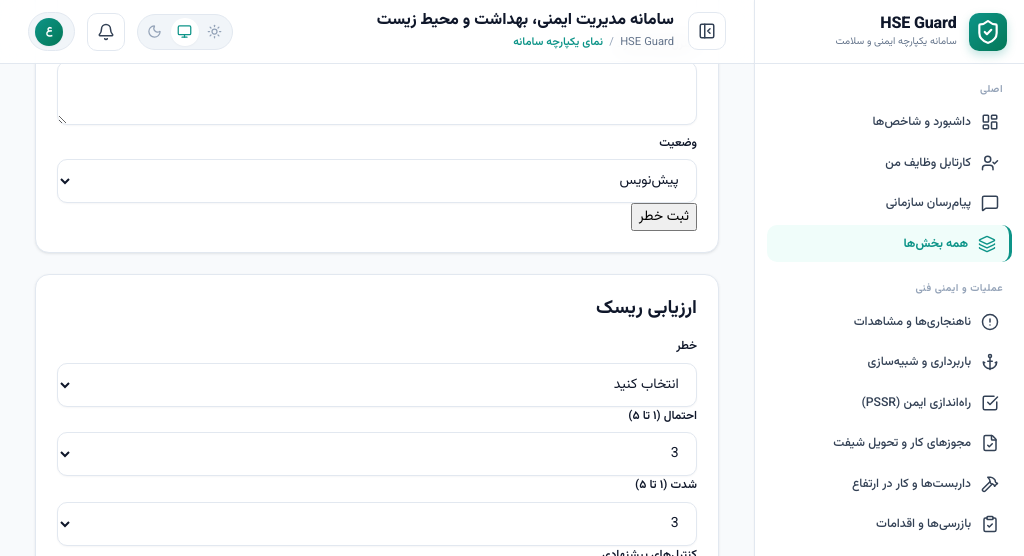
Test: Risks page › shows the server-computed score after submitting an assessment
The image size is (1024, 556).
(page scrolled)
Select "سقوط از ارتفاع" in the dropdown labelled "خطر": [377, 385] box [57,363,697,407]
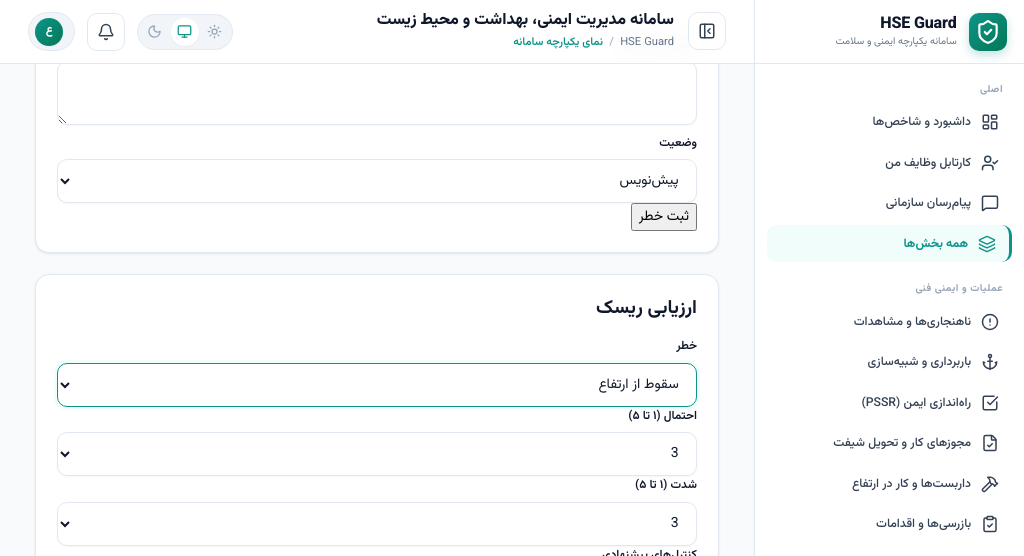
Select "4" in the dropdown labelled "احتمال (۱ تا ۵)": [377, 454] box [57,432,697,476]
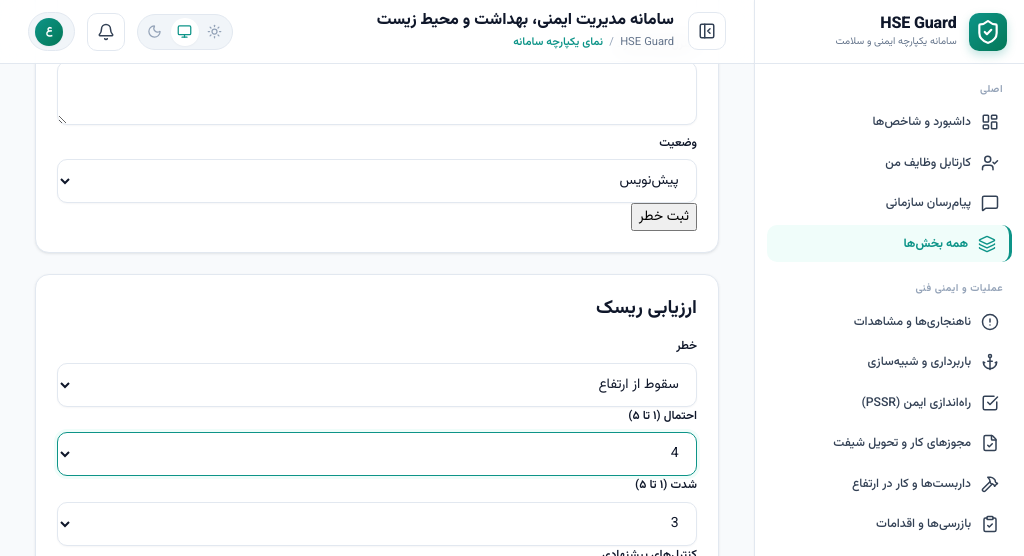
Select "5" in the dropdown labelled "شدت (۱ تا ۵)": [377, 524] box [57,502,697,546]
(page scrolled)
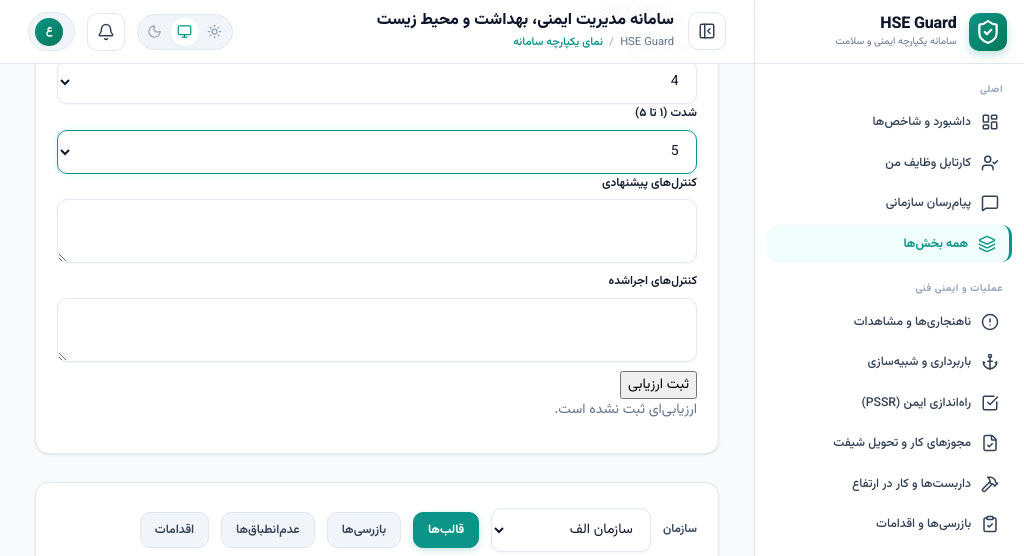
Click the button "ثبت ارزیابی": [658, 385] box [620,371,697,399]
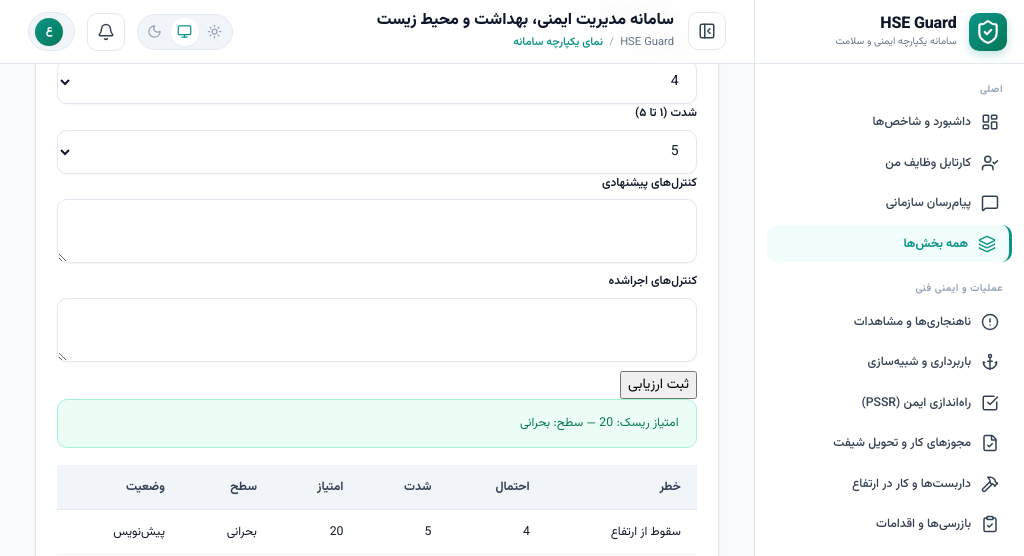
Check: the message shows "امتیاز ریسک: 20", box [57,399,697,448]
Check: the message shows "بحرانی", box [520,413,550,433]
